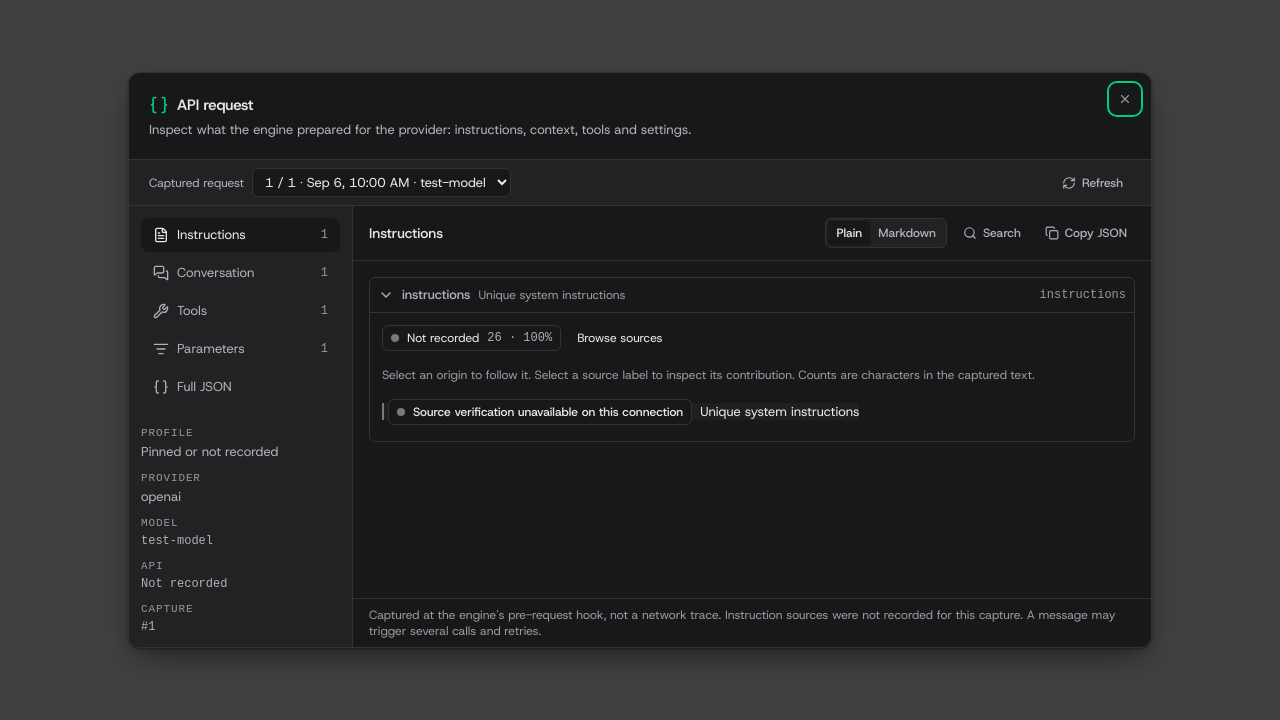
Scenario: explains connection verification failures separately from absent source history
Click the button named "Inspect source: Source verification unavailable on this connection" at (540, 412), box [388, 399, 692, 425]
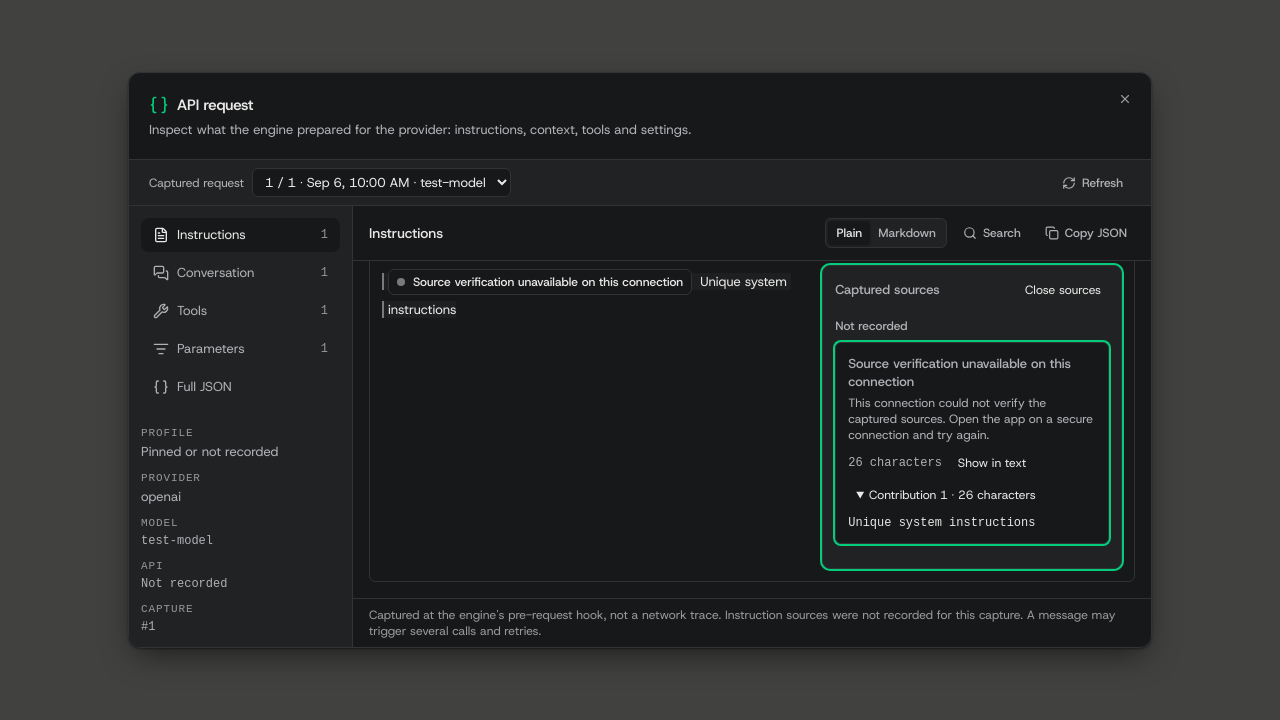
Check: the element named "Instruction source panel" shows "Open the app on a secure connection and try again.", box [848, 395, 1093, 443]
